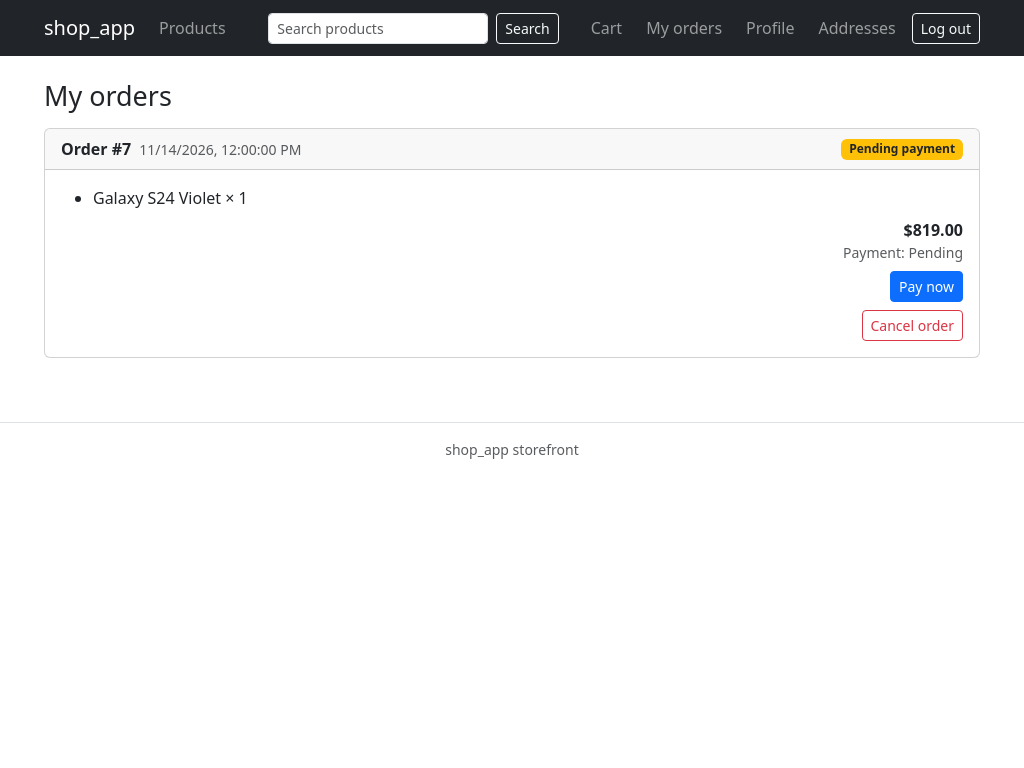
Test: My orders: cancel › shows the server's reason when the order can no longer be cancelled
Step 1. Click the button "Cancel order" → (912, 326), box [862, 310, 963, 341]
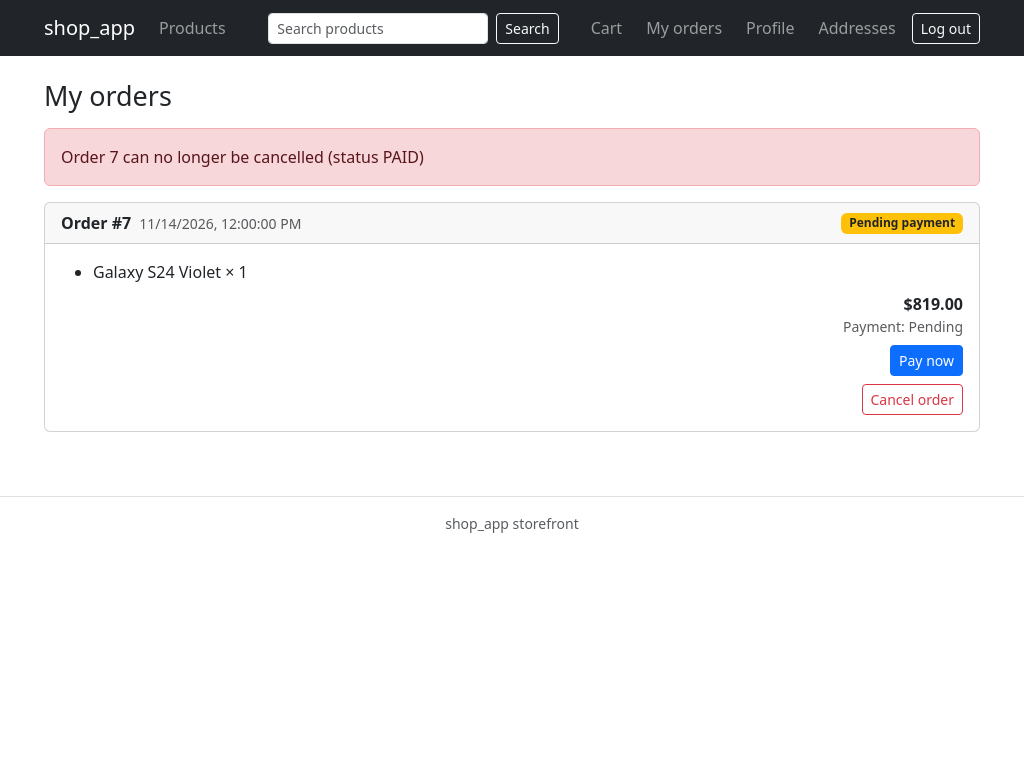
Check: the message reads "Order 7 can no longer be cancelled (status PAID)", box [61, 146, 424, 168]
